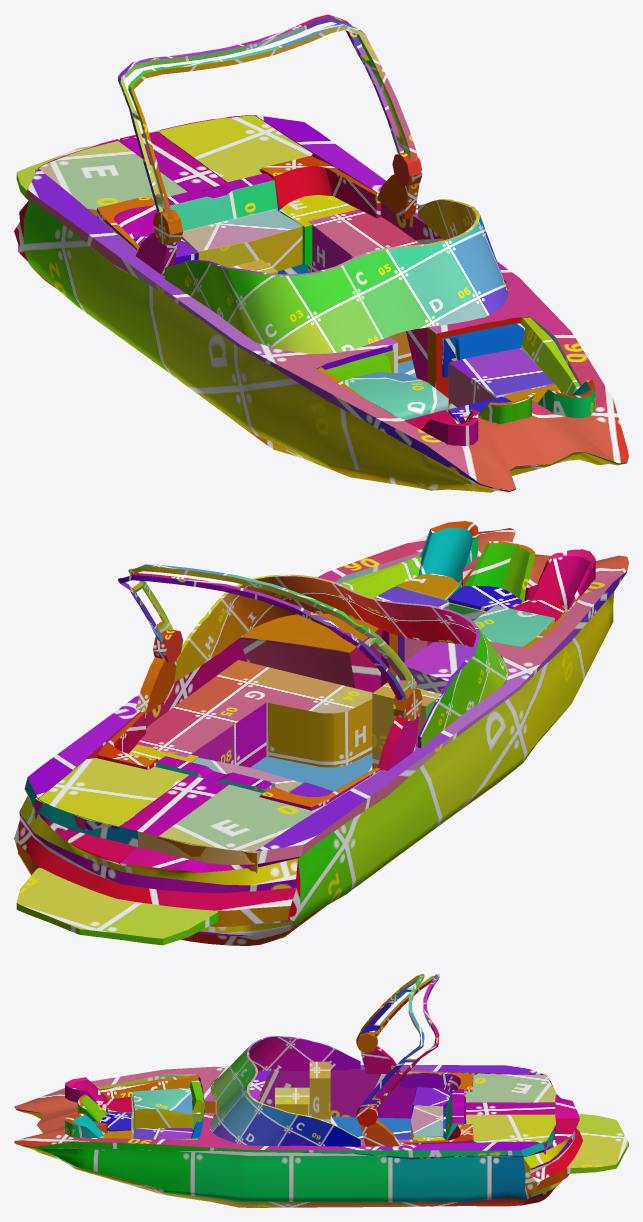
File: try3.fbx
3 views of the same model, one above another, from view 1: azimuth 30°, elevation 25°; view 2: azimuth 150°, elevation 25°; view 3: azimuth 270°, elevation 25° (orthographic). The views are drawn at different scales.
Visible parts, largest first — view 1: Main_Mass, Wind_Shield, Back_L_Platform, Back_R_Platform, Back_Mid_Seat, Front_Bar, Side_Bench, Front_L_Bench, Back_Mid_SeatBack, Back_L_SeatBack, Back_Bar, Front_R_Bench (+13 smaller); view 2: Main_Mass, Side_Bench, Wind_Shield, Tail_Platform, Back_L_Platform, Back_R_Platform, Front_Bar, Back_Bar, Back_Mid_Platform, Front_L_SeatBack, Front_Mid_SeatBack, Front_R_SeatBack (+15 smaller); view 3: Main_Mass, Wind_Shield, Tail_Platform, Back_L_Platform, Back_R_Platform, Front_R_Bench, Captains_Chair, Front_Bar, Back_R_SeatBack, Back_Mid_Platform, Back_Bar, Back_Mid_Seat (+15 smaller).
Boxes of the visible parts, x1,y1,x2,y2 form: Main_Mass: [14, 115, 628, 492]; Wind_Shield: [164, 199, 508, 353]; Back_L_Platform: [158, 115, 312, 182]; Back_R_Platform: [35, 141, 187, 216]; Back_Mid_Seat: [181, 208, 302, 271]; Front_Bar: [128, 22, 416, 220]; Side_Bench: [308, 209, 420, 363]; Front_L_Bench: [448, 348, 554, 407]; Back_Mid_SeatBack: [163, 173, 277, 231]; Back_L_SeatBack: [259, 156, 380, 218]; Back_Bar: [118, 14, 403, 212]; Front_R_Bench: [341, 372, 449, 420]; Main_Mass: [14, 528, 628, 945]; Side_Bench: [136, 660, 372, 767]; Wind_Shield: [174, 574, 508, 748]; Tail_Platform: [16, 867, 218, 945]; Back_L_Platform: [35, 758, 189, 830]; Back_R_Platform: [157, 784, 312, 873]; Front_Bar: [128, 564, 416, 691]; Back_Bar: [118, 573, 405, 700]; Back_Mid_Platform: [120, 775, 228, 836]; Front_L_SeatBack: [418, 521, 478, 584]; Front_Mid_SeatBack: [464, 541, 535, 602]; Front_R_SeatBack: [531, 549, 595, 610]; Main_Mass: [14, 1065, 582, 1207]; Wind_Shield: [210, 1036, 360, 1146]; Tail_Platform: [567, 1113, 628, 1173]; Back_L_Platform: [466, 1114, 555, 1154]; Back_R_Platform: [466, 1073, 555, 1102]; Front_R_Bench: [132, 1087, 192, 1130]; Captains_Chair: [275, 1061, 330, 1122]; Front_Bar: [359, 974, 424, 1108]; Back_R_SeatBack: [400, 1070, 472, 1106]; Back_Mid_Platform: [466, 1102, 555, 1114]; Back_Bar: [373, 974, 439, 1110]; Back_Mid_Seat: [410, 1105, 443, 1139].
Bounding box in the file's own units: 7.76 × 7.51 × 23.12.
4 materials, 4 textured.
